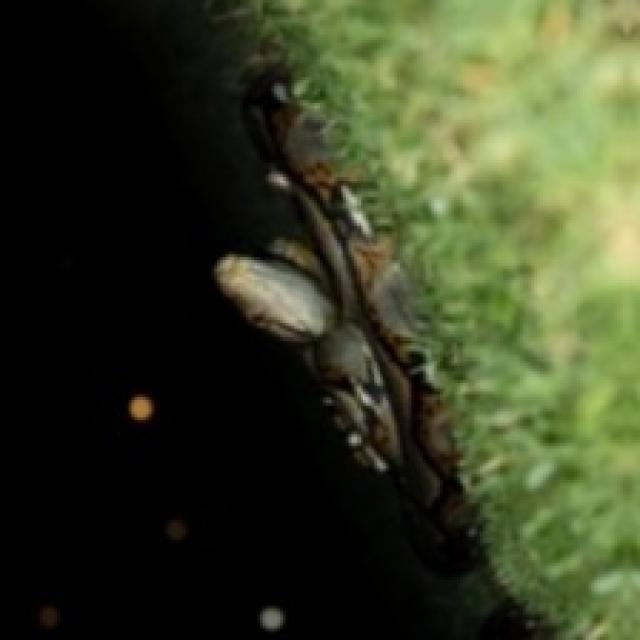reticulated python: (214, 66, 480, 571)
